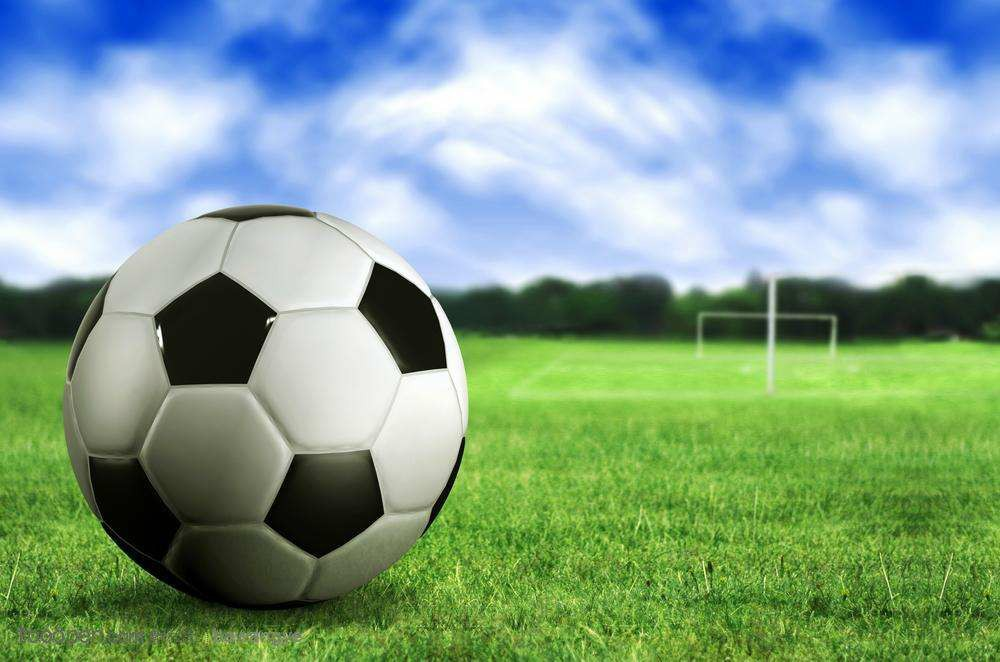football: (64, 207, 473, 612)
